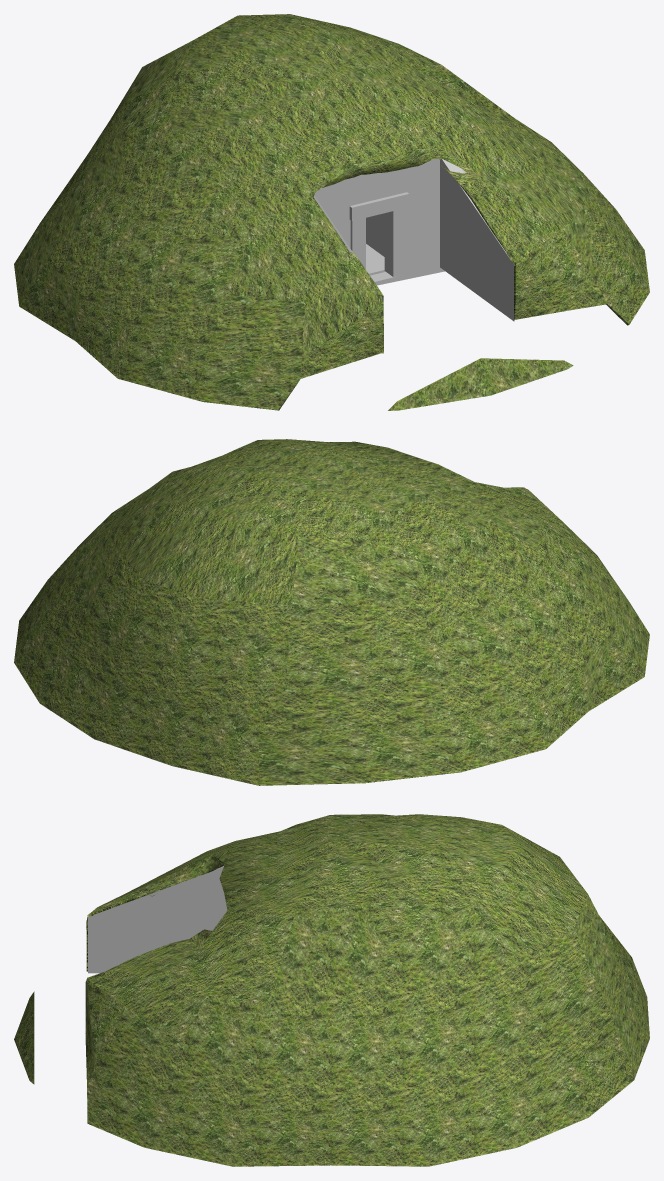
Rendered from Tomb1.fbx.
The picture shows the model from 3 angles, top to bottom: view 1: azimuth 30°, elevation 25°; view 2: azimuth 150°, elevation 25°; view 3: azimuth 270°, elevation 25°; orthographic projection.
Parts seen in each view (by area): view 1: pSphere3, pCube14, pCube16, pCube2, pCube3, pCube6, pCube1; view 2: pSphere3; view 3: pSphere3, pCube15.
Part boxes in pixels (bbox=[...]): pSphere3: bbox=[14, 14, 649, 410]; pCube14: bbox=[314, 158, 444, 285]; pCube16: bbox=[440, 158, 514, 321]; pCube2: bbox=[384, 208, 407, 276]; pCube3: bbox=[349, 192, 409, 220]; pCube6: bbox=[366, 213, 384, 256]; pCube1: bbox=[350, 218, 365, 269]; pSphere3: bbox=[14, 439, 649, 785]; pSphere3: bbox=[14, 814, 649, 1166]; pCube15: bbox=[88, 866, 227, 973].
Size of what is drawn, in the model's own units: 54.86 by 20.4 by 57.5.
